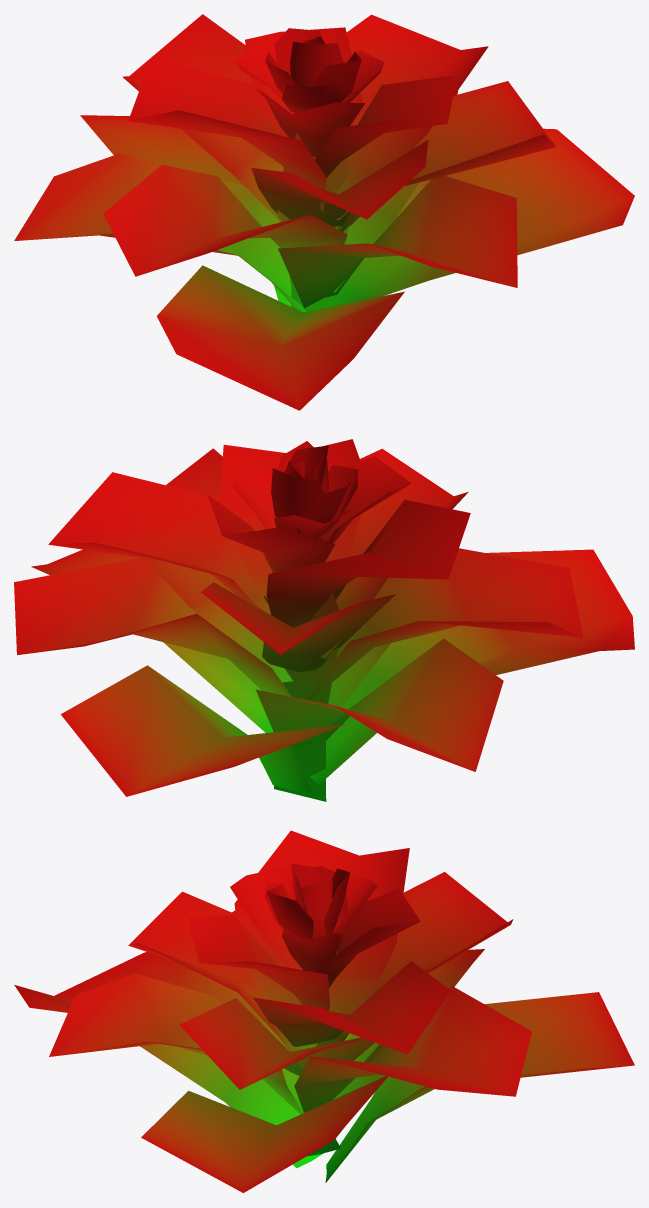
Rendered from White Ornamental Kale_LOD4_Var6_ue3ldcgja.fbx.
The picture shows the model from 3 angles, top to bottom: view 1: azimuth 30°, elevation 25°; view 2: azimuth 150°, elevation 25°; view 3: azimuth 270°, elevation 25°; orthographic projection. The views are drawn at different scales.
Visible parts, largest first — view 1: _0b34_Var6_LOD4; view 2: _0b34_Var6_LOD4; view 3: _0b34_Var6_LOD4.
Boxes of the visible parts, x1,y1,x2,y2 form: _0b34_Var6_LOD4: (14, 14, 634, 410); _0b34_Var6_LOD4: (14, 439, 634, 801); _0b34_Var6_LOD4: (14, 830, 634, 1192).
Size of the model in its own units: 57 by 34.78 by 62.72.
